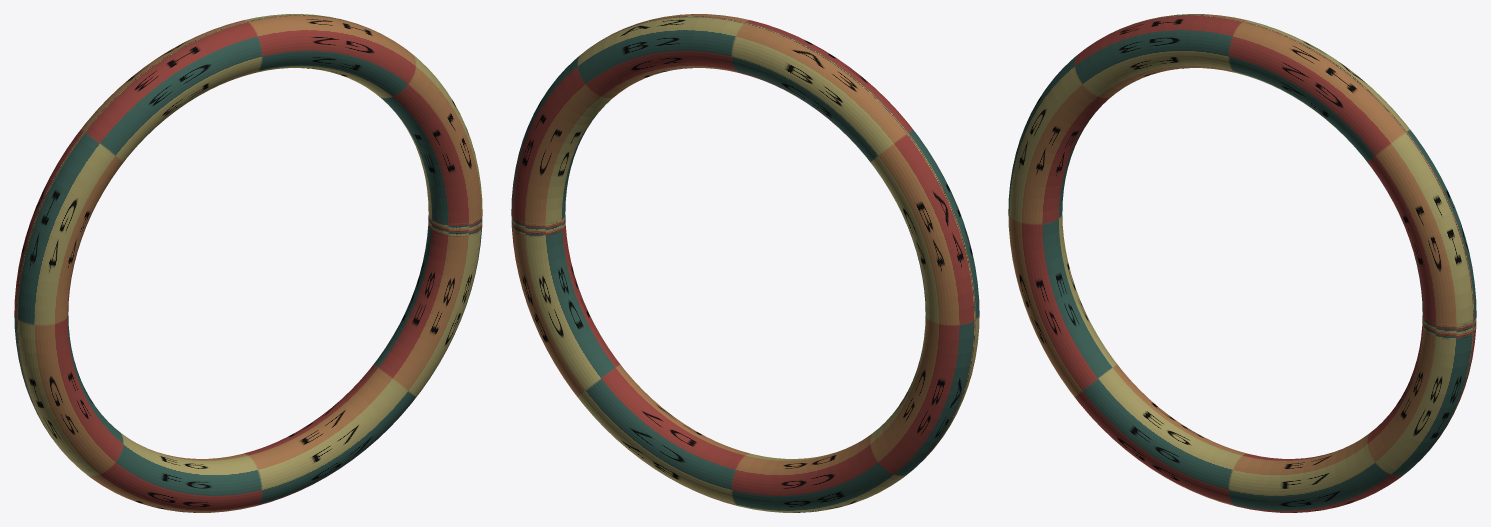
File: texture_torus_R7_r1.glb
3 renders of one model, left to right at view 1: azimuth 30°, elevation 25°; view 2: azimuth 150°, elevation 25°; view 3: azimuth 330°, elevation 25°, orthographic.
Visible parts, largest first — view 1: world; view 2: world; view 3: world.
Part boxes in pixels (x1,y1,x2,y2): world: (14, 14, 482, 512); world: (511, 14, 979, 512); world: (1008, 14, 1476, 512).
Size of the model in its own units: 28.44 by 28.44 by 2.88.
Materials: 1 (1 with a texture image).
